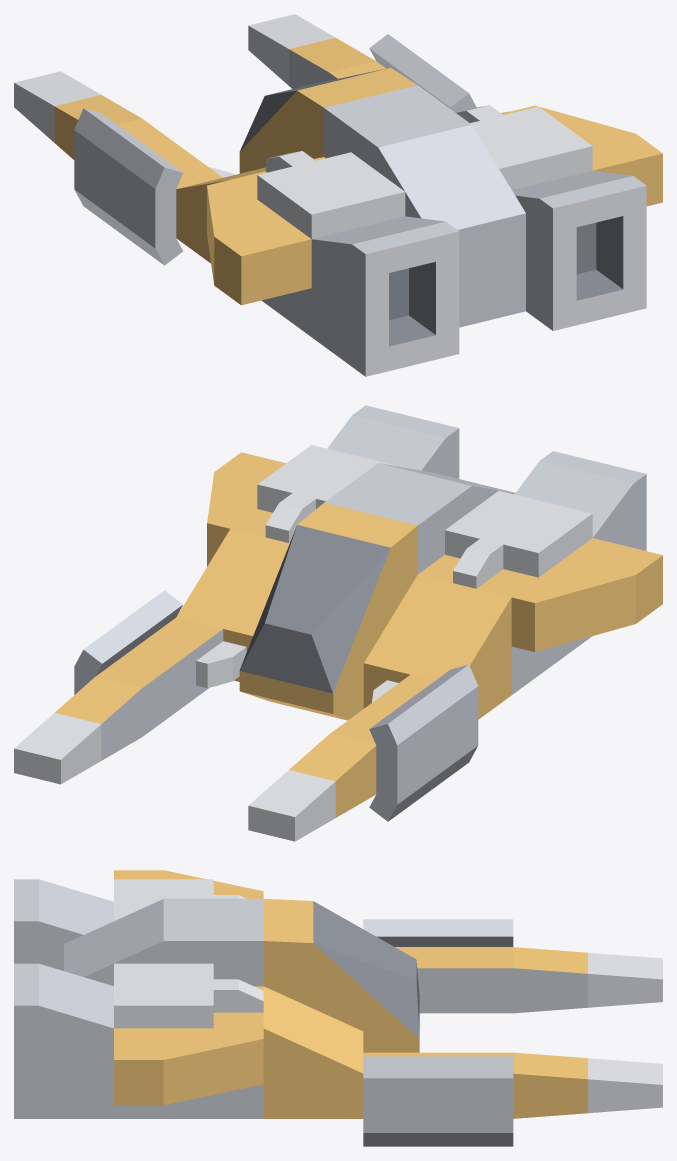
File: craft_miner.glb
3 views of the same model, one above another, from view 1: azimuth 30°, elevation 25°; view 2: azimuth 150°, elevation 25°; view 3: azimuth 270°, elevation 25° (orthographic). The views are drawn at different scales.
Visible parts, largest first — view 1: craft_miner; view 2: craft_miner; view 3: craft_miner.
Boxes of the visible parts, bbox=[...] form: craft_miner: bbox=[14, 14, 662, 376]; craft_miner: bbox=[14, 405, 662, 841]; craft_miner: bbox=[14, 870, 662, 1146].
Bounding box in the file's own units: 1.8 × 0.7 × 2.6.
